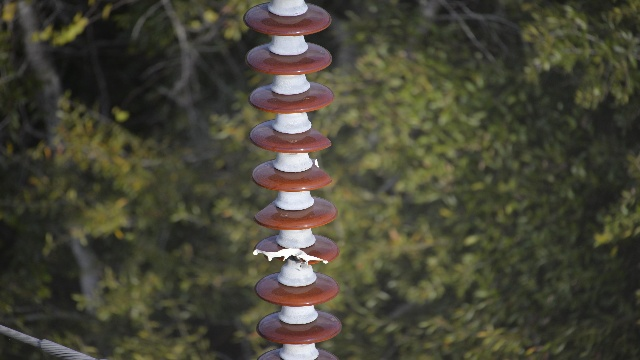broken_local: (251, 247, 331, 266), (251, 194, 285, 222), (299, 123, 333, 150)
insulator_unspecified: (241, 6, 345, 359)
